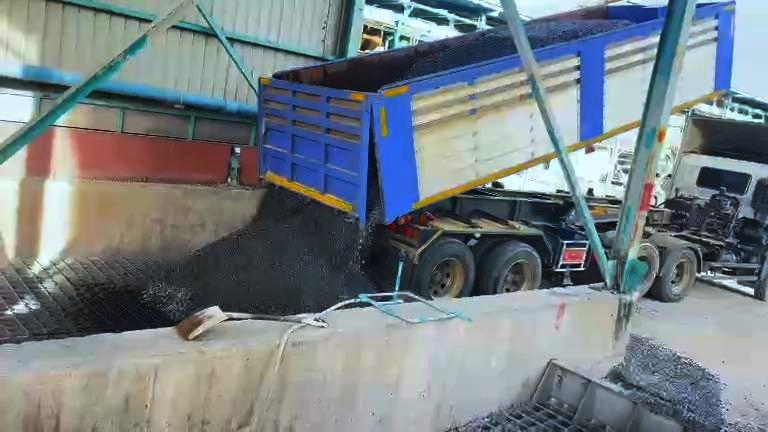gravel: (144, 187, 372, 319), (611, 335, 725, 431), (399, 27, 516, 79), (525, 20, 632, 48)
